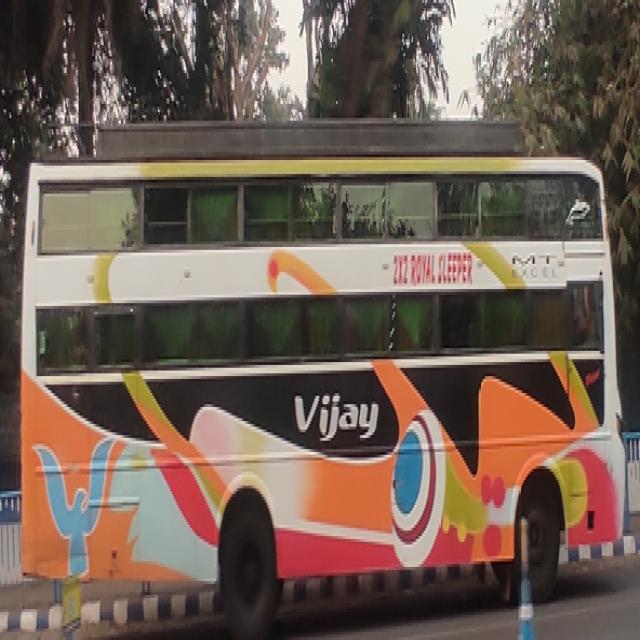bus: (16, 106, 633, 640)
